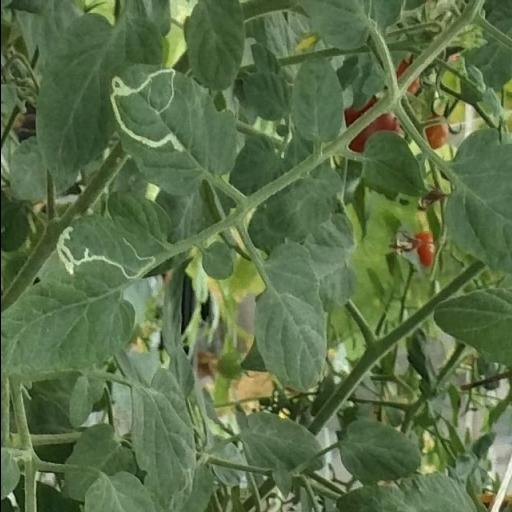Healthy: (250, 240, 332, 398), (336, 416, 422, 484), (183, 0, 246, 91), (287, 49, 345, 143), (356, 131, 430, 197)
Leaf Miner: (0, 212, 170, 378), (105, 63, 242, 197)
